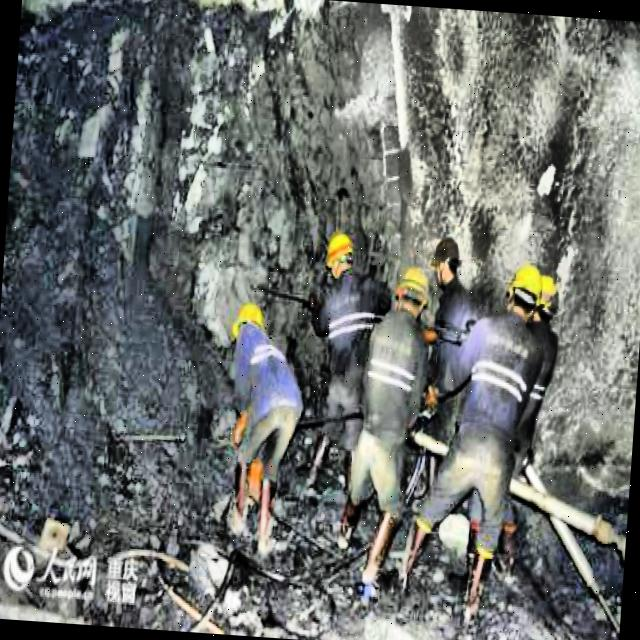helmet: (503, 260, 542, 322), (393, 263, 431, 323), (426, 228, 464, 288), (232, 296, 270, 350), (324, 229, 357, 281), (533, 269, 562, 328)
